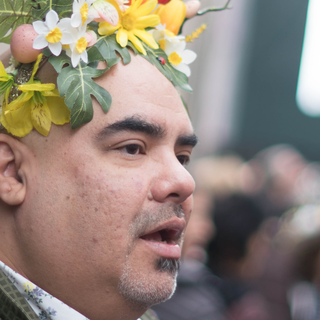eye: (108, 134, 149, 162)
